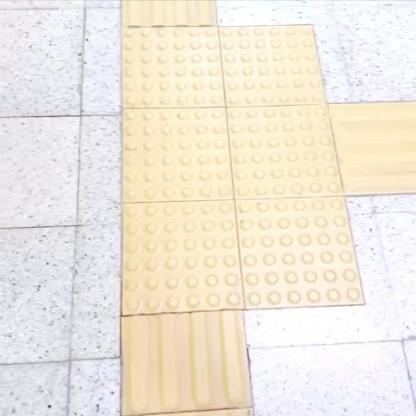podotacti: (101, 0, 391, 355)
